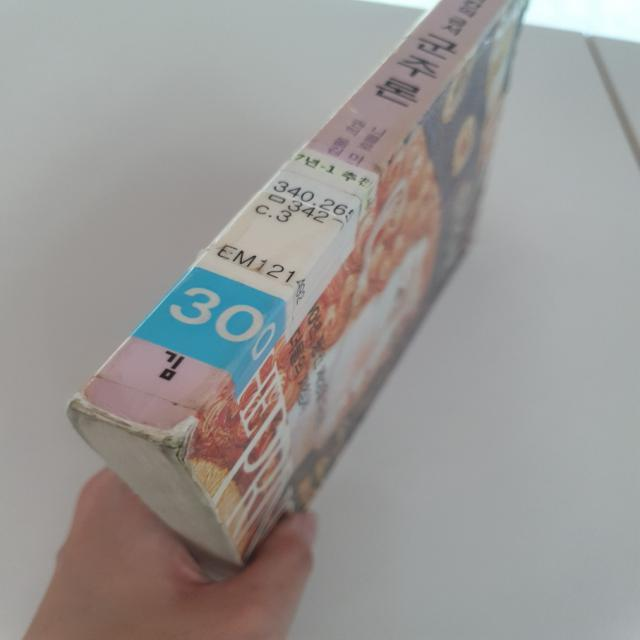Wornout: (61, 391, 202, 482)
